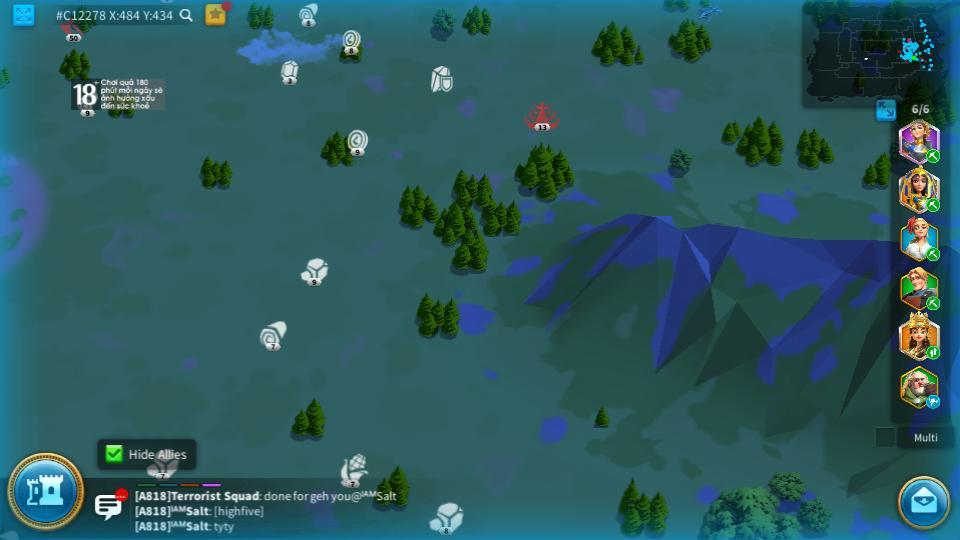gem-z-out: (304, 258, 328, 285), (277, 59, 300, 83)
march_marching: (925, 197, 941, 212), (925, 345, 941, 359), (925, 395, 943, 407), (925, 150, 942, 162), (925, 297, 942, 308)
